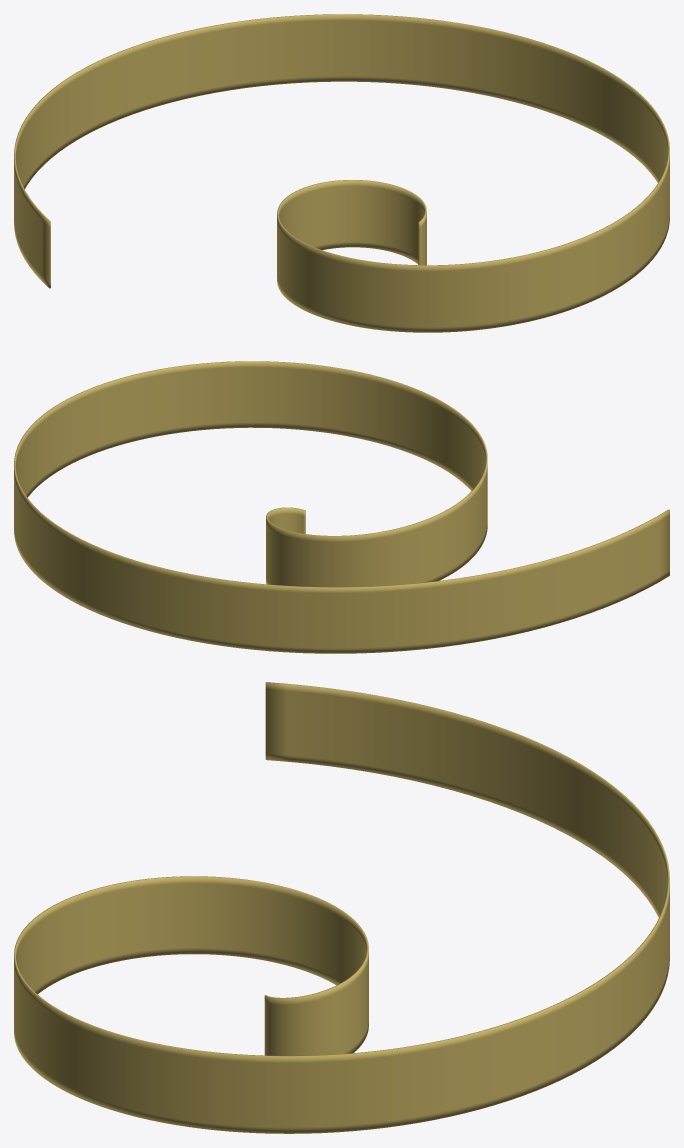
File: ex_archimedean.glb
3 renders of one model, top to bottom at view 1: azimuth 30°, elevation 25°; view 2: azimuth 150°, elevation 25°; view 3: azimuth 270°, elevation 25°, orthographic. The views are drawn at different scales.
Visible parts, largest first — view 1: Archimedean; view 2: Archimedean; view 3: Archimedean.
Boxes of the visible parts, <box> form: Archimedean: <box>14,14,669,332</box>; Archimedean: <box>14,361,669,653</box>; Archimedean: <box>14,682,669,1133</box>.
Size of the model in its own units: 8.53 by 2.13 by 6.94.
